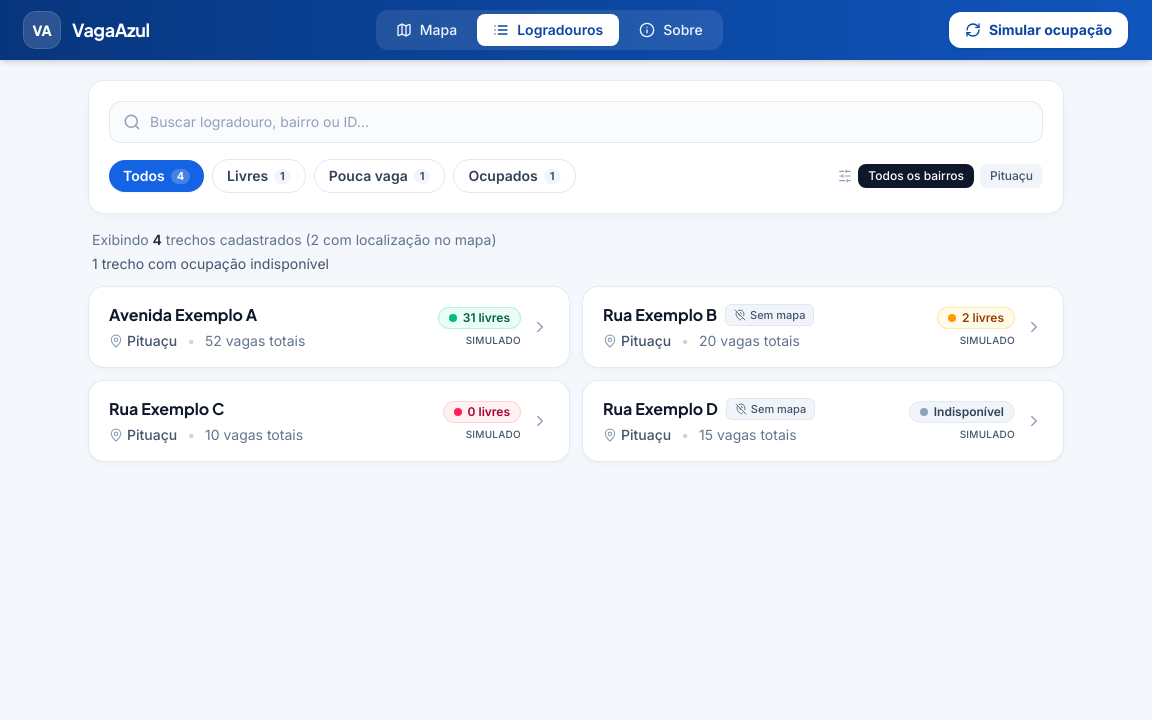
Test case: Navegação e listagem › Consulta dos detalhes › apresenta os dados do trecho selecionado corretamente
Earlier steps of the test are not shown.
Click the heading "Avenida Exemplo A": {"x": 183, "y": 315} [109,303,257,327]
(page scrolled)
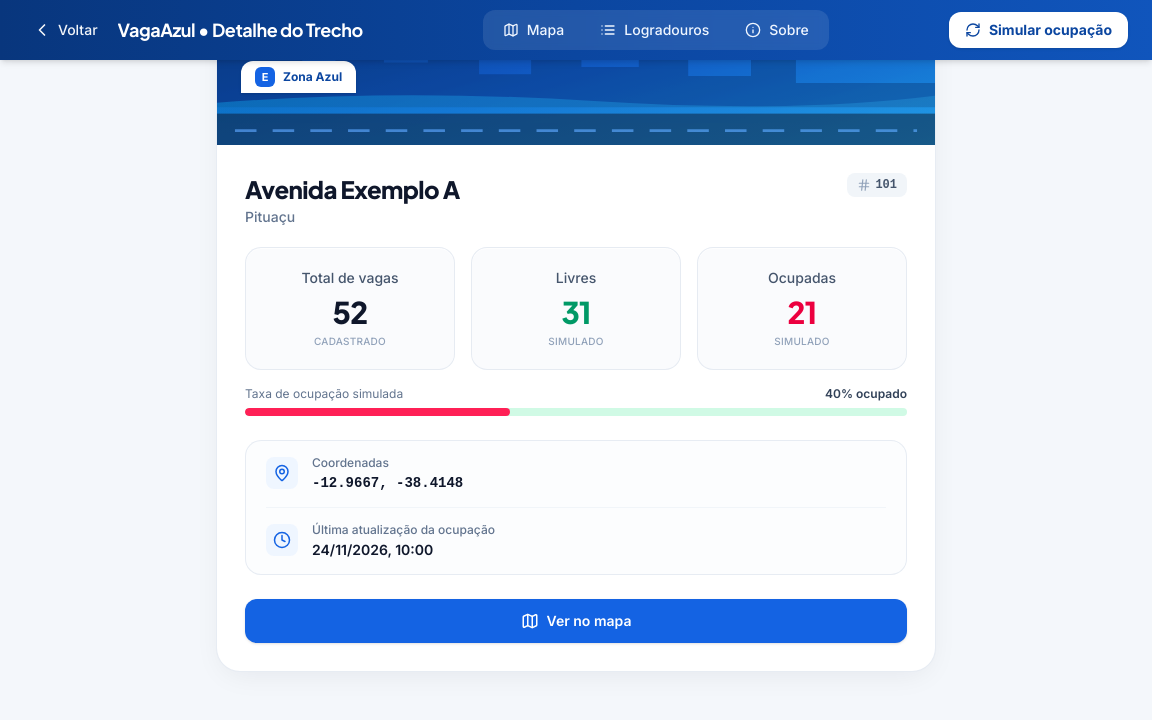
Now the element with test id "trecho-detail" shows "Avenida Exemplo A", box [245,174,460,204]
Now the element with test id "stat-total" shows "52", box [333,293,367,331]
Now the element with test id "stat-livres" shows "31", box [561,293,591,331]
